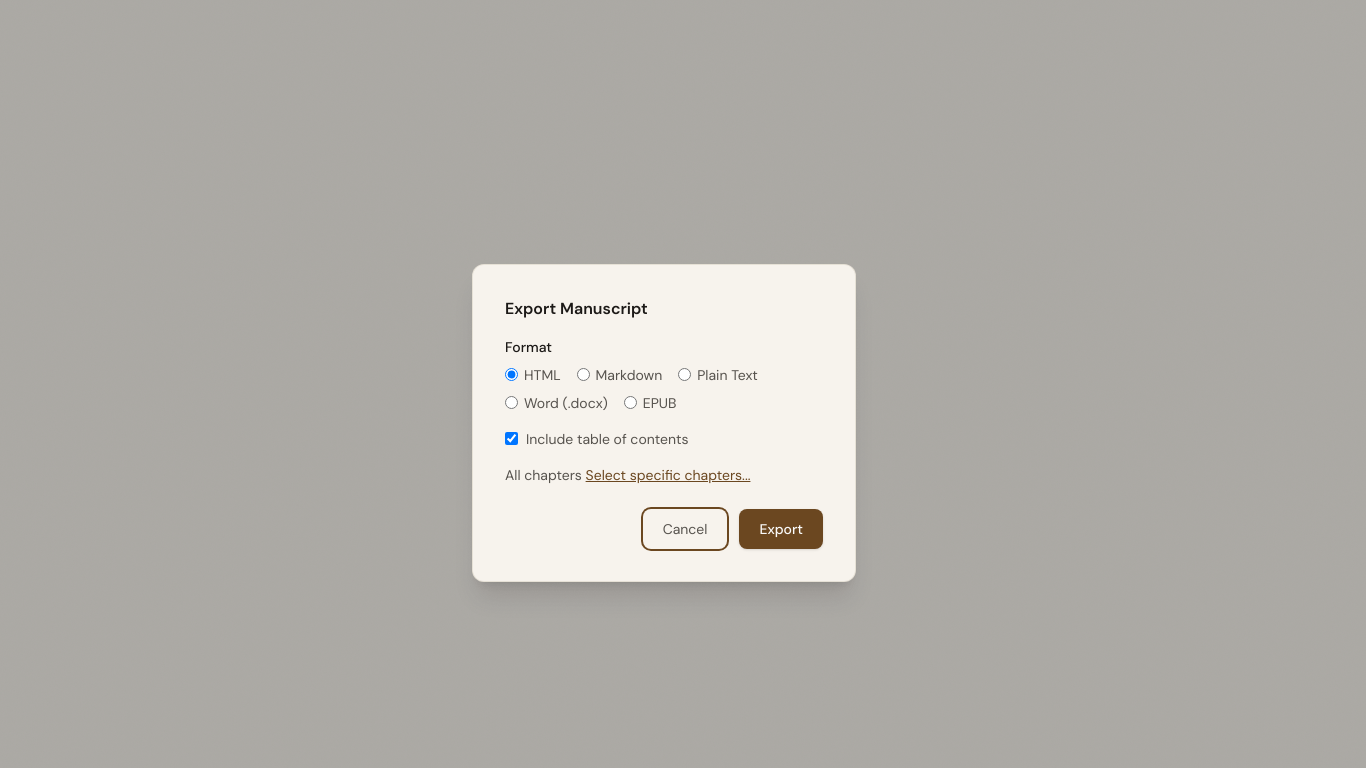
Scenario: ExportDialog › surfaces the network-specific copy when export fails with NETWORK (I2 2026-04-25)
Click the button "Export": [781, 529] box x1=739 y1=509 x2=823 y2=549
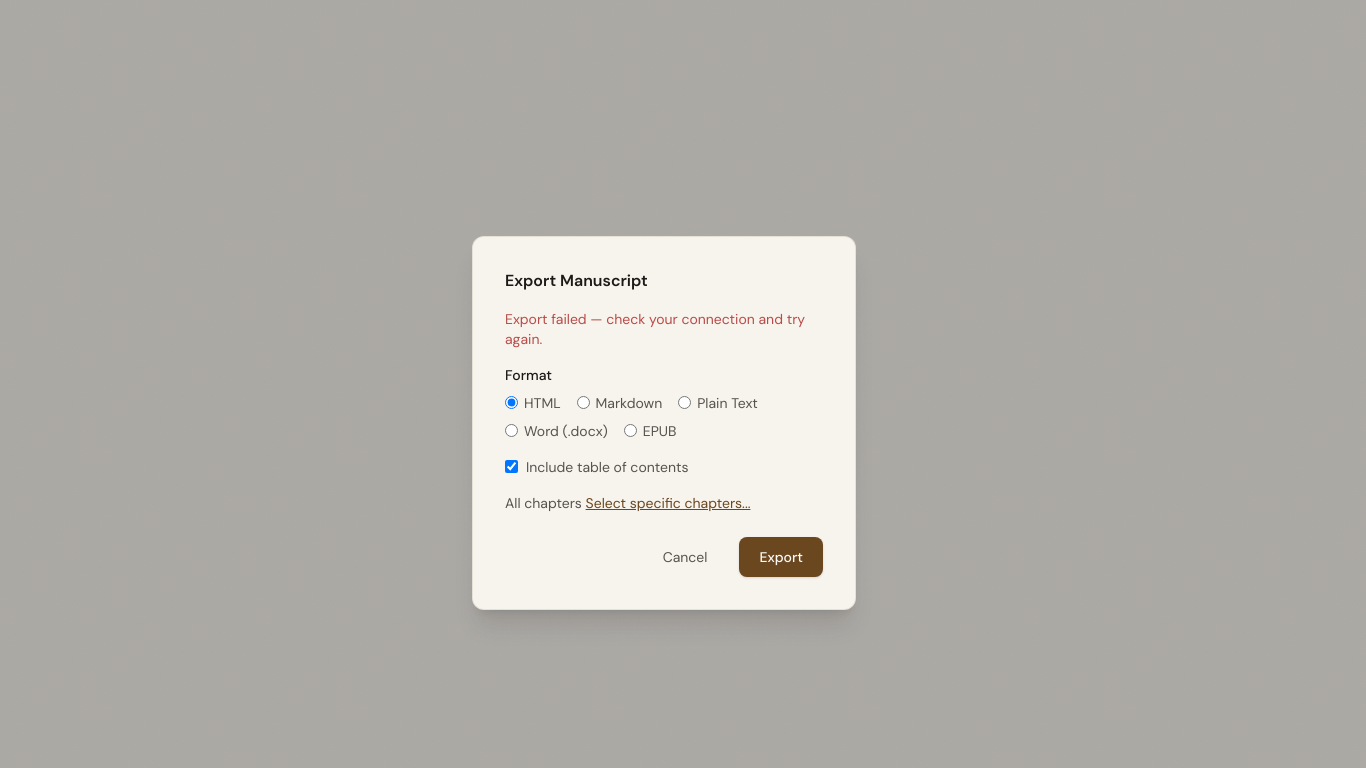
Expected: the message reads "Export failed — check your connection and try again.", x1=505 y1=310 x2=805 y2=348
